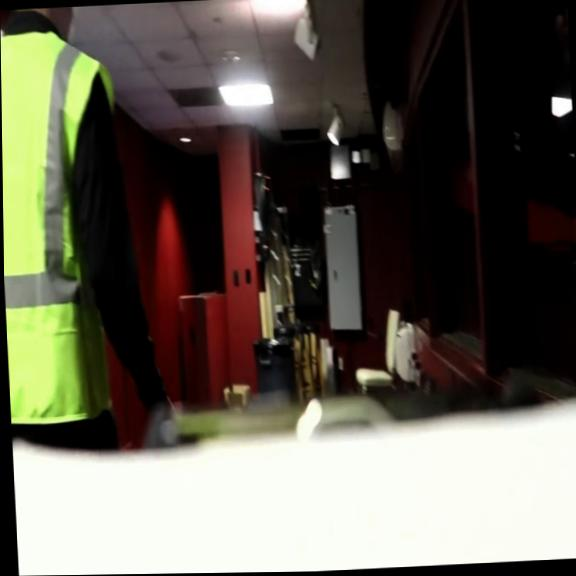safety_vest: (0, 27, 129, 423)
